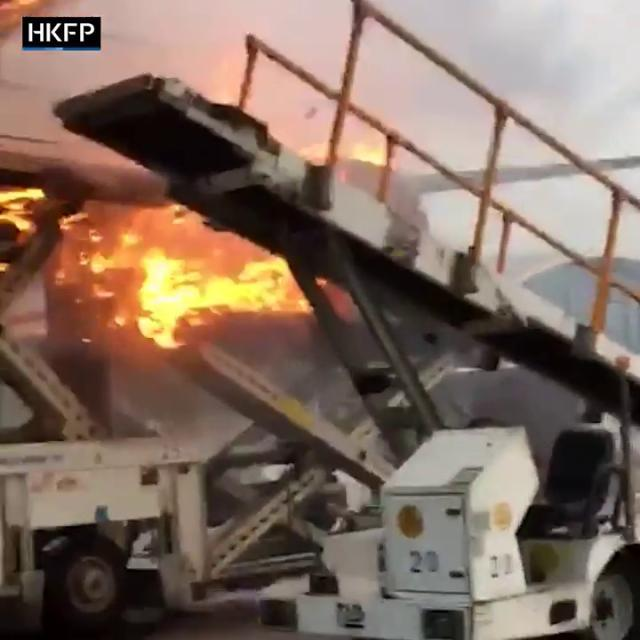Fire: (83, 230, 305, 350)
